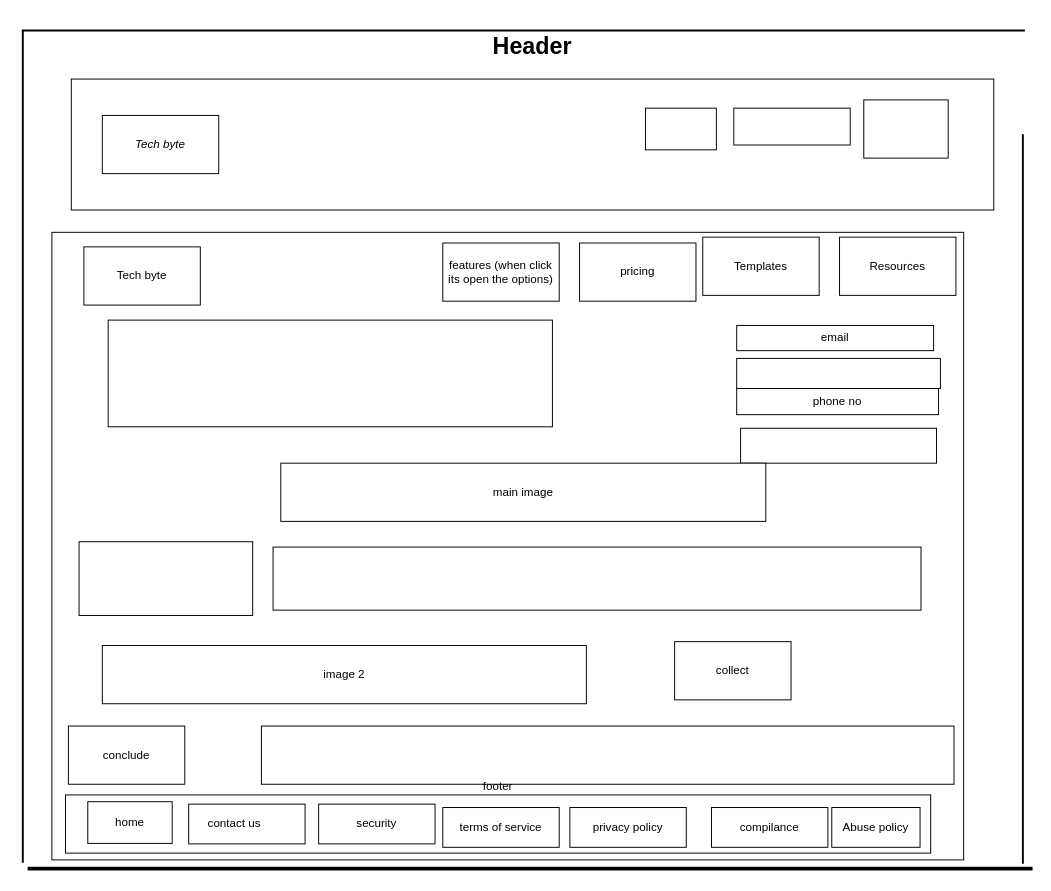
Image size: 1051x891. Some labels were removed from this diagram. Here are the shapes that lost their labels. From the top down, the centre of each, then its label:
At pixel 680 128: "search icon".
At pixel 791 126: "language options english ,french".
At pixel 905 128: "sign in".
At pixel 329 373: "content 1".
At pixel 838 372: "password".
At pixel 838 445: "sign up for free".
At pixel 165 578: "content".
At pixel 596 578: "image1".
At pixel 607 754: "image 3".
